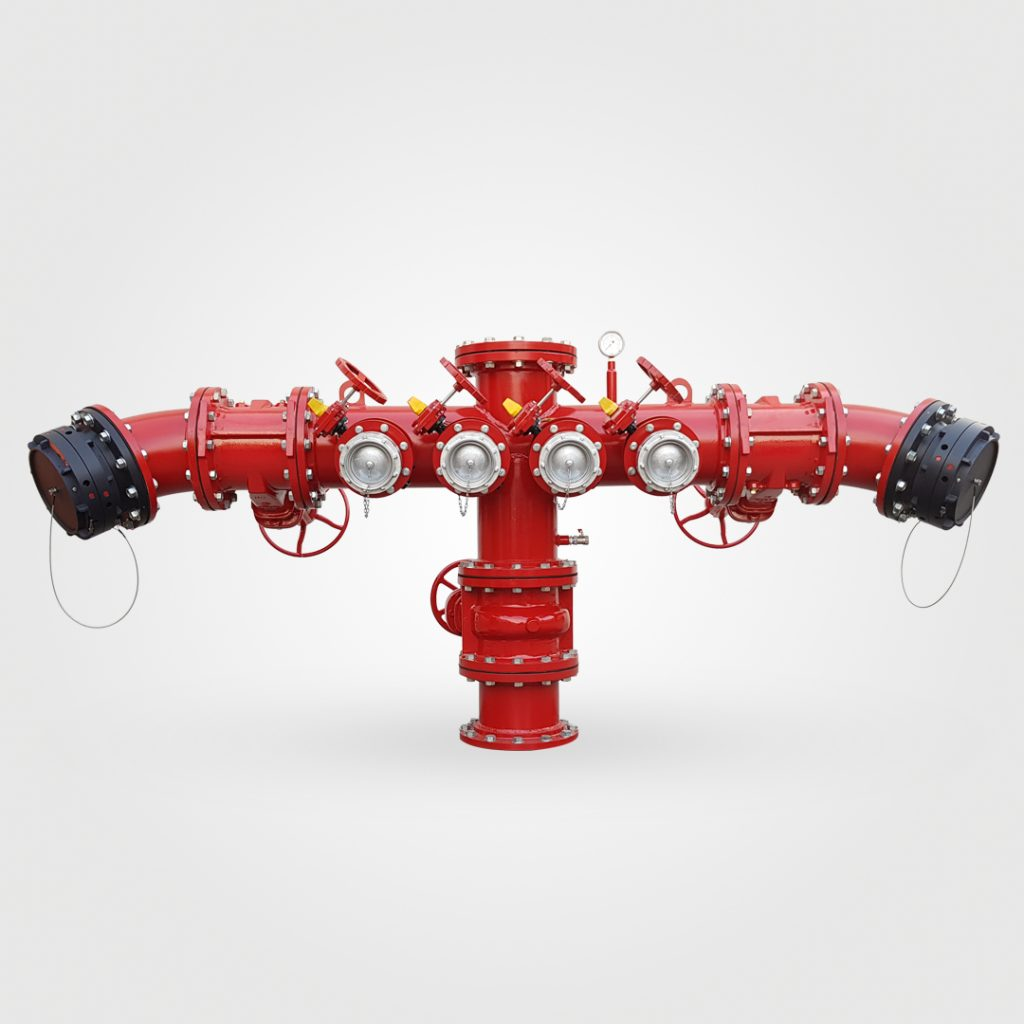FireHydrant: (28, 336, 1011, 753)
